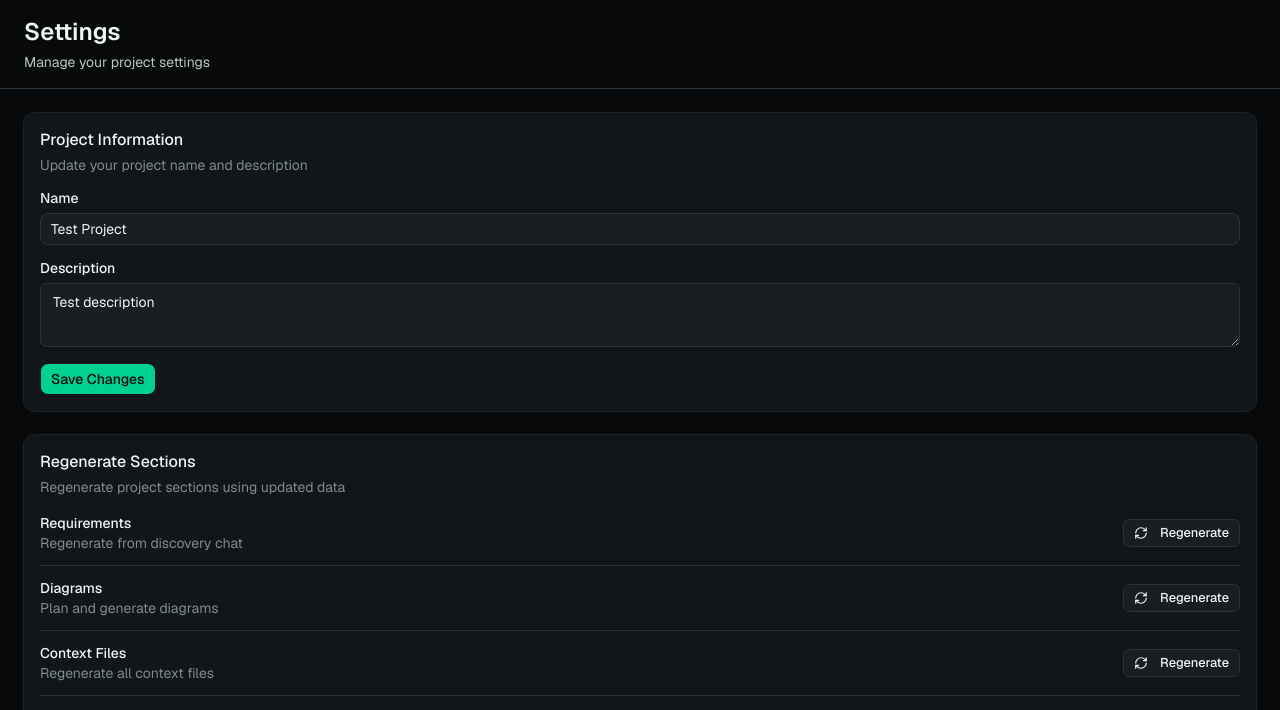
ProjectSettings › disables save button when name is empty
The image size is (1280, 710).
Clear the field labelled "Name". click: (640, 229)
box: [40, 213, 1240, 245]
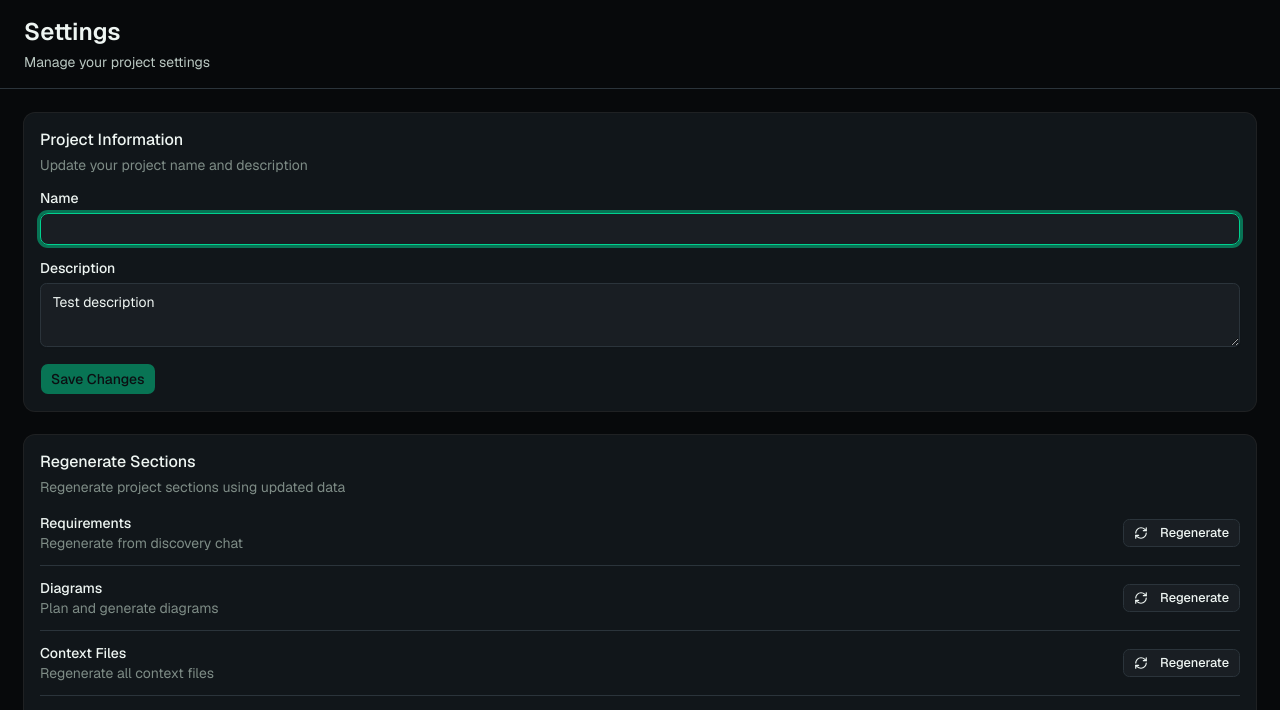
Now the button "Save Changes" is disabled, box [40, 363, 156, 395]
